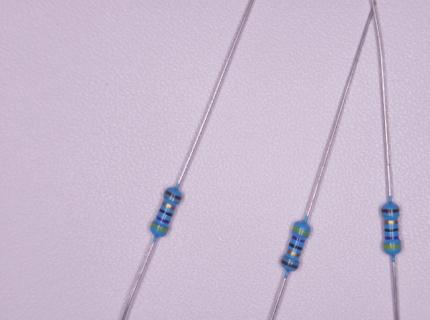Black band: (159, 208, 173, 217), (289, 242, 303, 251), (384, 228, 399, 232)
Brown band: (281, 259, 299, 270), (164, 190, 182, 201), (381, 208, 400, 213)
Gold band: (161, 201, 176, 211), (286, 248, 301, 257), (384, 220, 398, 225)
Violet band: (155, 215, 171, 224), (291, 234, 306, 243), (384, 236, 399, 240)
Yellow band: (150, 222, 168, 234), (292, 225, 310, 236), (383, 244, 401, 249)
